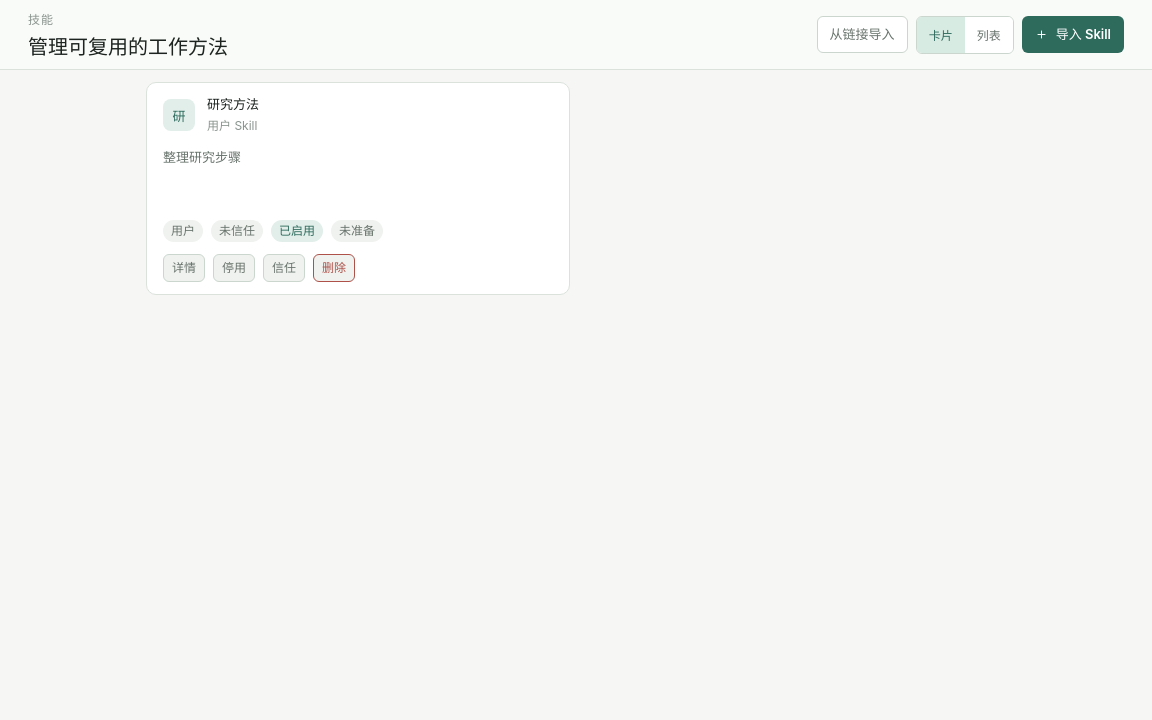
it: SkillsPage › does not summarize discovered external dependencies as absent from an empty profile
Expected: the text "研究方法" is shown, [207,95,259,113]
Click the button "研 研究方法 用户 Skill 整理研究步骤" at x=179, y=115, box [163,95,553,208]
(page scrolled)
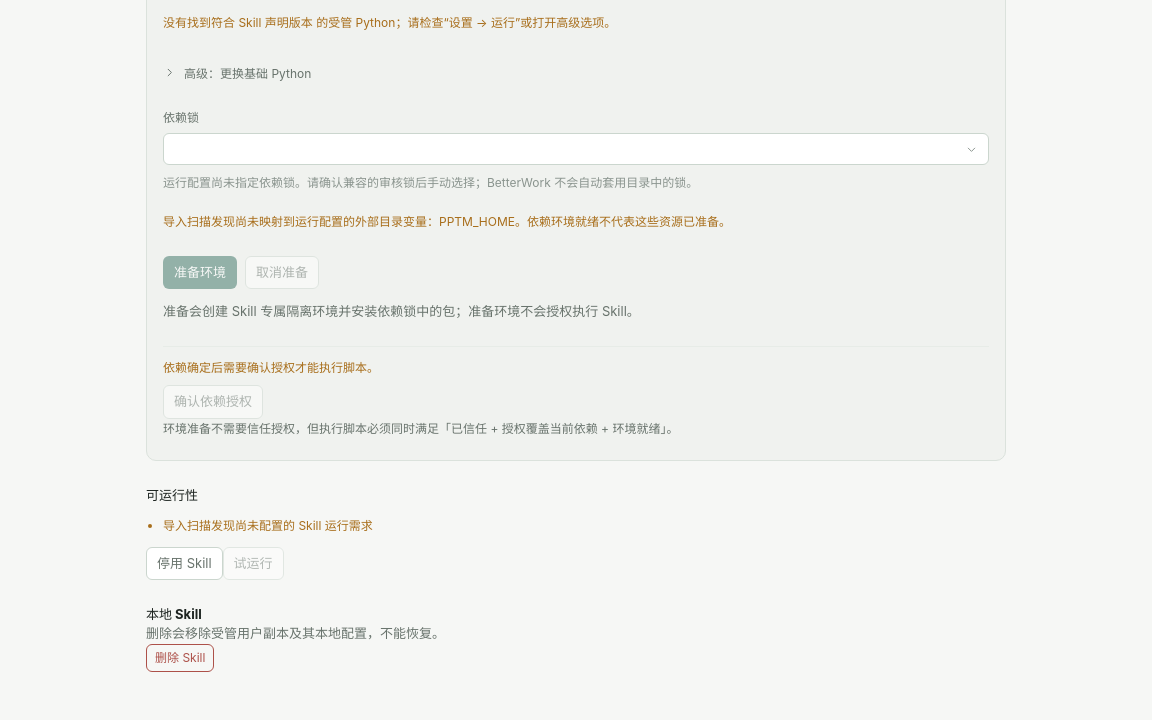
Expected: the text "导入扫描发现尚未映射到运行配置的外部目录变量：PPTM_HOME。依赖环境就绪不代表这些资源已准备。" is shown, [163,214,731,229]
Expected: the list item "导入扫描发现尚未配置的 Skill 运行需求" is shown, [163,518,373,532]
Expected: the button "试运行" is disabled, [223,547,284,580]
